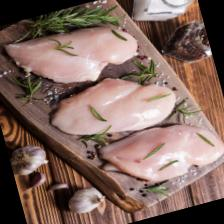chicken: (1, 11, 144, 102), (42, 62, 182, 152), (95, 110, 224, 195)
